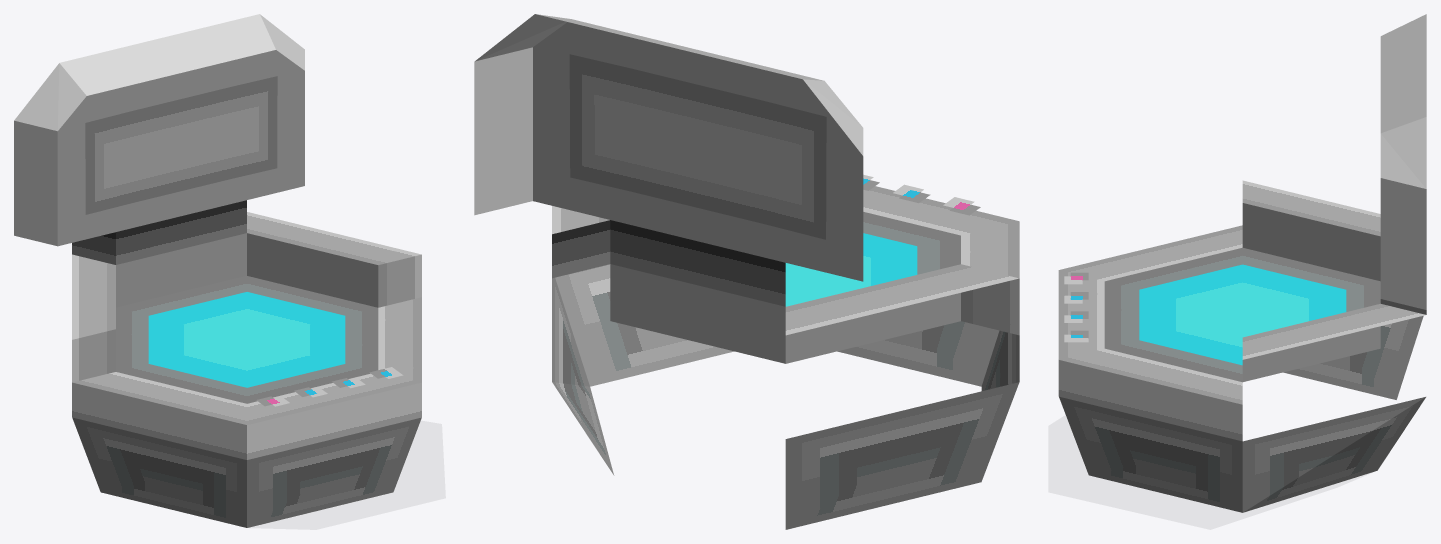
3 views of the same model, side by side, from view 1: azimuth 30°, elevation 25°; view 2: azimuth 150°, elevation 25°; view 3: azimuth 270°, elevation 25° (orthographic). The views are drawn at different scales.
Parts seen in each view (by area): view 1: polygon0, polygon3, polygon2; view 2: polygon0, polygon3, polygon2; view 3: polygon0, polygon2.
Part boxes in pixels (x1,y1,x2,y2): polygon0: (14, 14, 421, 527); polygon3: (85, 76, 277, 214); polygon2: (148, 292, 345, 387); polygon0: (474, 14, 1019, 529); polygon3: (569, 54, 826, 239); polygon2: (785, 233, 917, 306); polygon0: (1058, 14, 1426, 512); polygon2: (1139, 264, 1346, 365).
Bounding box in the file's own units: 5.33 × 5.09 × 4.68.
4 materials, 4 textured.
